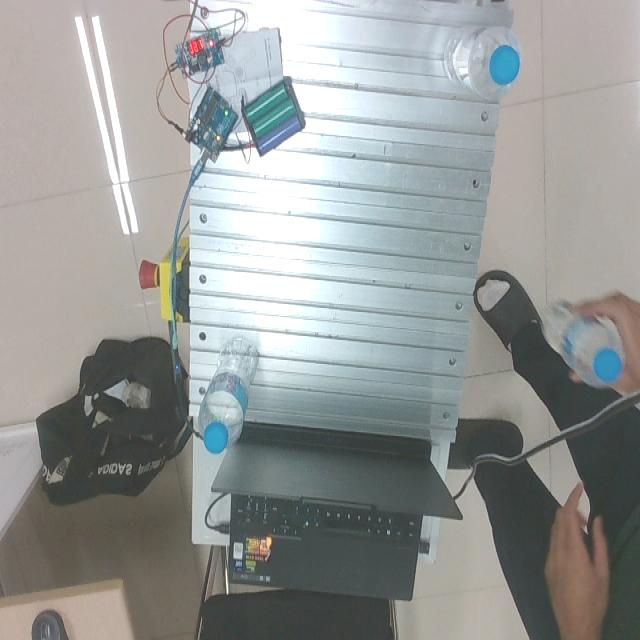lavie: (198, 336, 259, 456), (443, 26, 521, 101)
